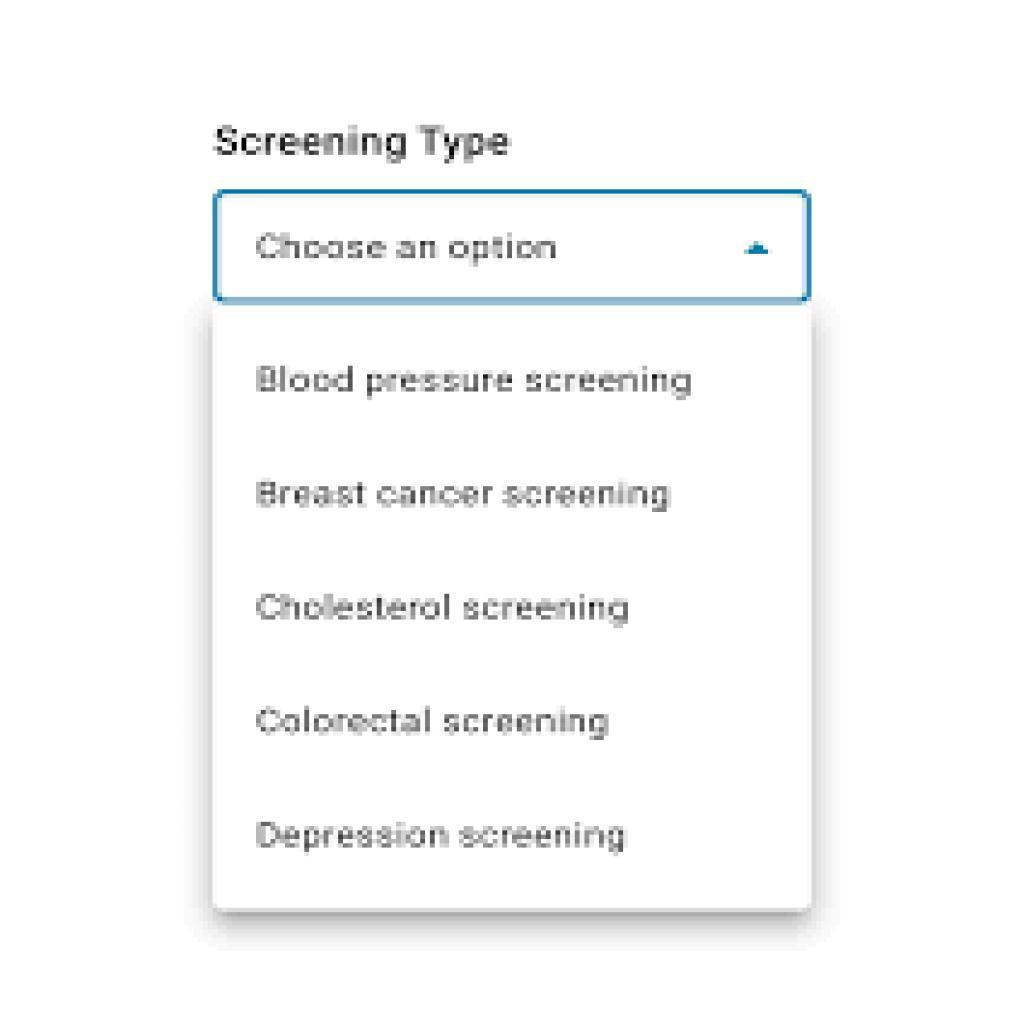dropdown: (211, 189, 812, 307)
